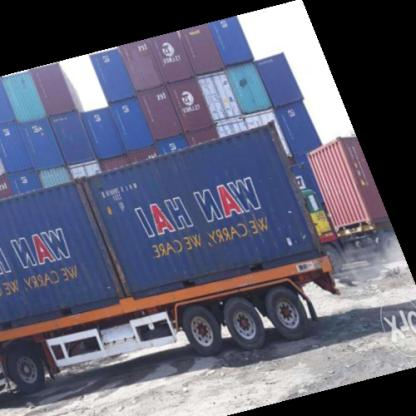Damage: (268, 122, 330, 250), (76, 174, 132, 297)
